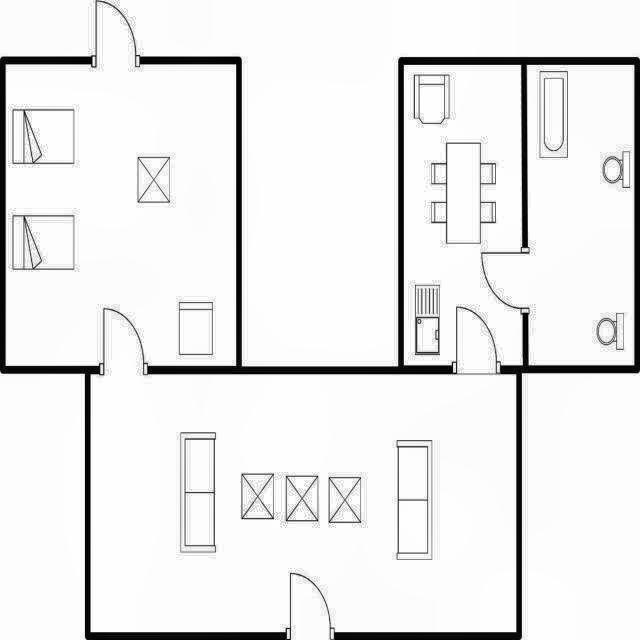room: (91, 374, 516, 631), (5, 64, 236, 365), (404, 65, 521, 366), (528, 65, 634, 365)
